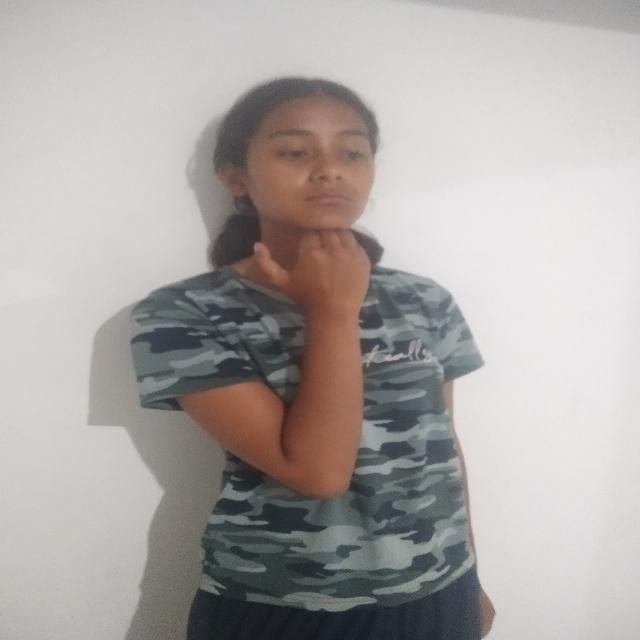Chin Flick: (207, 70, 401, 383)
